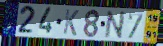2: (16, 5, 38, 36)
4: (38, 6, 55, 37)
7: (127, 11, 145, 40)
8: (82, 9, 100, 39)
K: (62, 8, 80, 37)
N: (104, 10, 127, 40)
